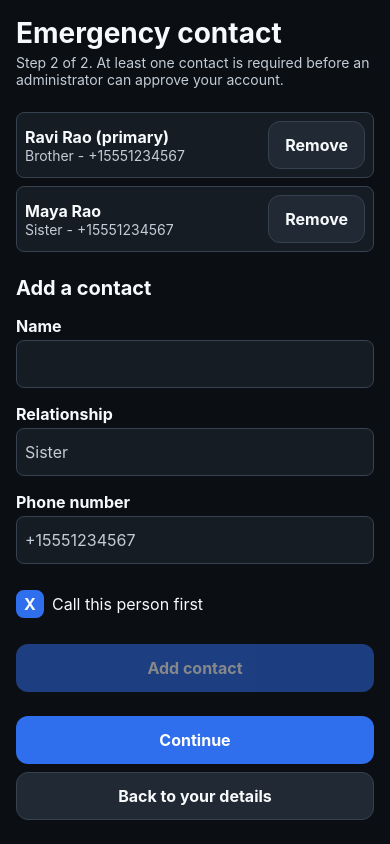
emergency contact loading recovery › keeps stale contacts unconfirmed after reconciliation fails and restores state on retry
Click the button "Remove" in the row of "(primary)".
click(317, 145)  # box top-left (268, 121), bottom-right (365, 169)
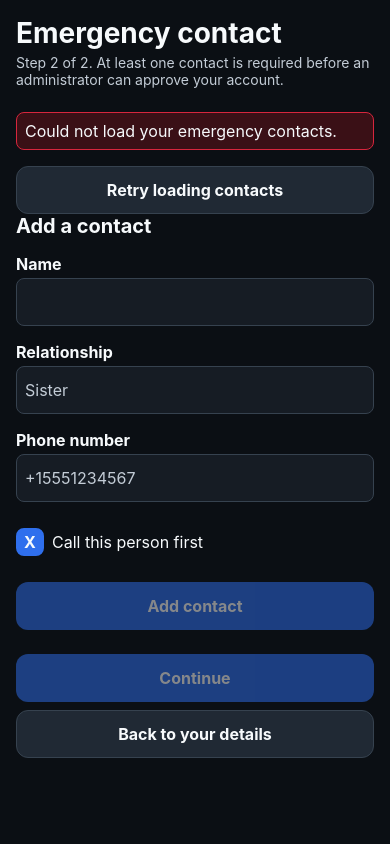
Now the message "Could not load your emergency contacts." is shown, box top-left (16, 112), bottom-right (374, 150)
Now the button with test id "contacts-continue" is disabled, box top-left (16, 654), bottom-right (374, 702)
Click the button with test id "contacts-retry".
click(195, 190)  # box top-left (16, 166), bottom-right (374, 214)
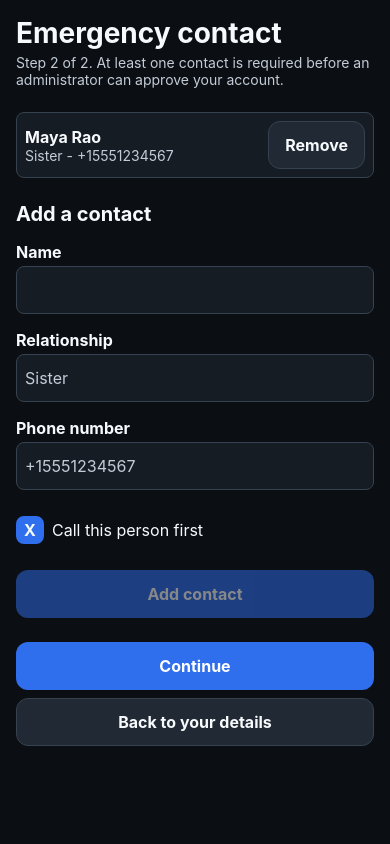
Now the button with test id "contacts-continue" is enabled, box top-left (16, 642), bottom-right (374, 690)
